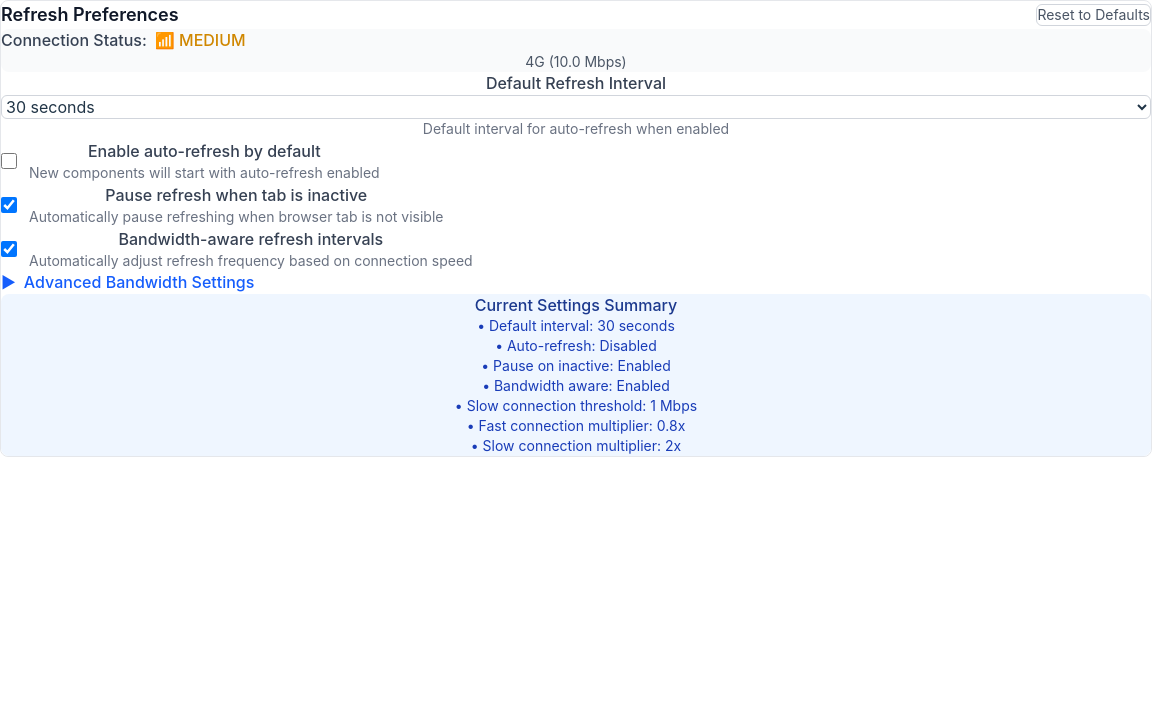
Test case: RefreshPreferencesSettings › should toggle advanced settings visibility
Click the button "▶ Advanced Bandwidth Settings". click: (128, 282)
box: [1,271,254,294]
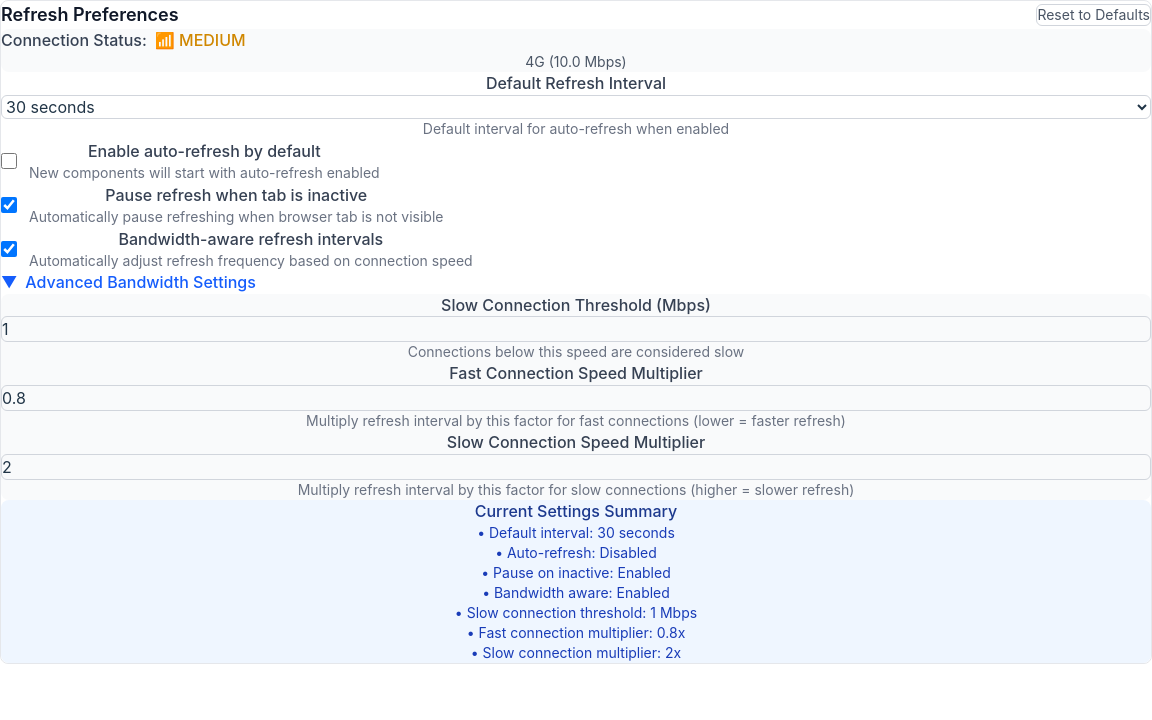
Check: the text "Slow Connection Threshold (Mbps)" is shown, box [441,294,711,314]
Check: the text "Fast Connection Speed Multiplier" is shown, box [449,363,703,383]
Check: the text "Slow Connection Speed Multiplier" is shown, box [447,432,705,452]
